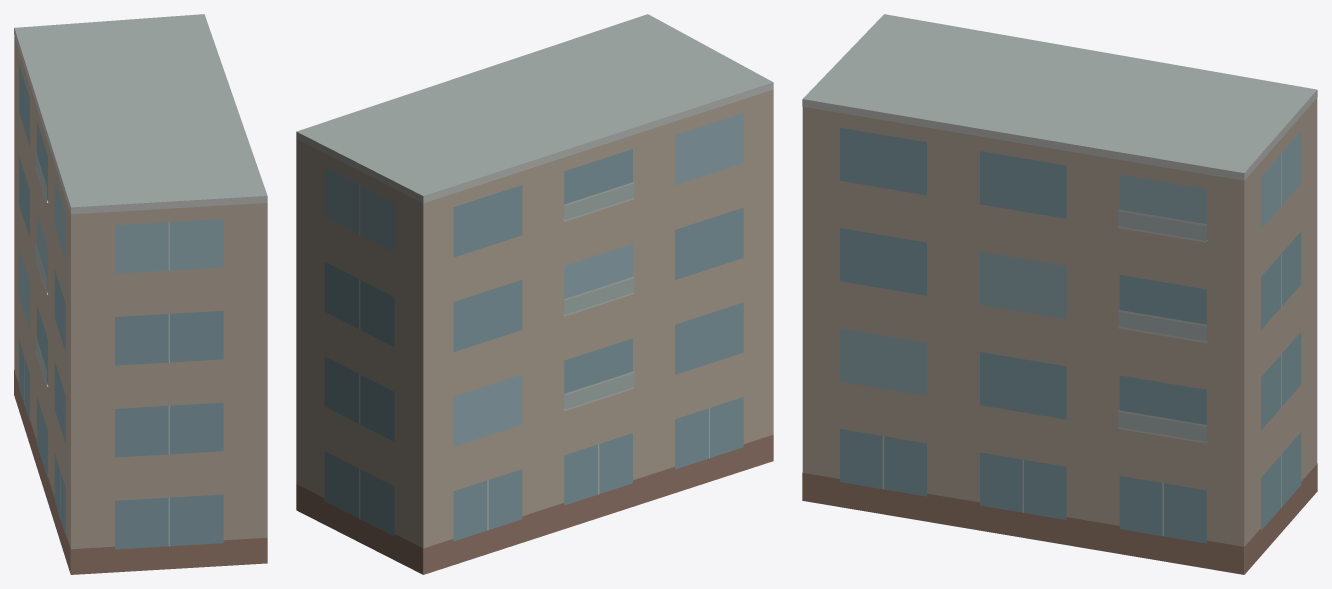
Rendered from survey-upis-32473916.glb.
3 views of the same model, side by side, from view 1: azimuth 30°, elevation 25°; view 2: azimuth 150°, elevation 25°; view 3: azimuth 270°, elevation 25° (orthographic). The views are drawn at different scales.
Visible parts, largest first — view 1: survey-upis-32473916.tmp; view 2: survey-upis-32473916.tmp; view 3: survey-upis-32473916.tmp.
Boxes of the visible parts, box(x1,y1,x2,y2) form: survey-upis-32473916.tmp: box(14, 14, 267, 574); survey-upis-32473916.tmp: box(296, 14, 773, 574); survey-upis-32473916.tmp: box(802, 14, 1317, 574).
Bounding box in the file's own units: 10.97 × 12.9 × 15.
